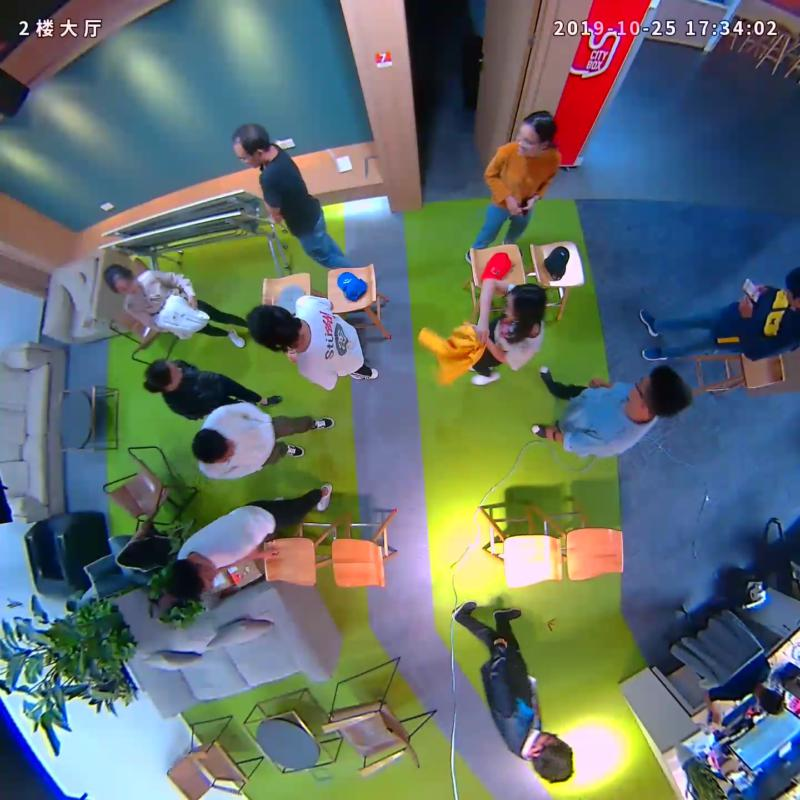head: (629, 366, 691, 419), (529, 731, 574, 783), (246, 304, 297, 348), (168, 558, 218, 600), (516, 111, 556, 158), (231, 123, 271, 168), (191, 428, 236, 466), (505, 282, 547, 319), (143, 358, 184, 389), (103, 264, 142, 296)
